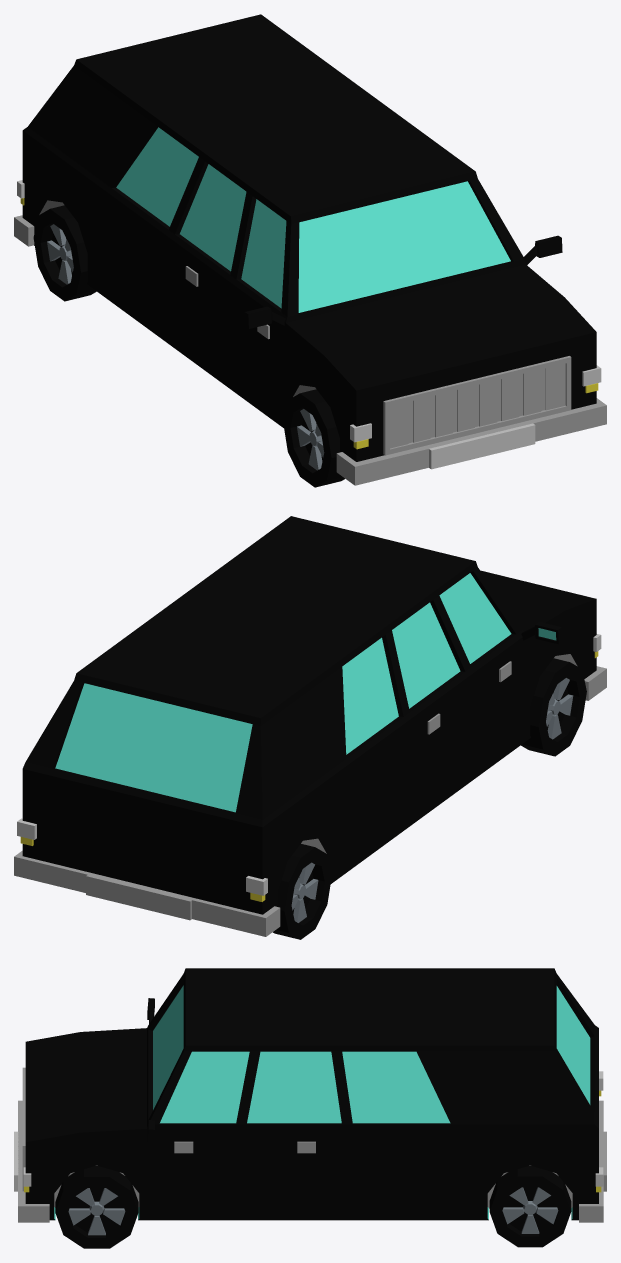
Rendered from car2.fbx.
3 views of the same model, one above another, from view 1: azimuth 30°, elevation 25°; view 2: azimuth 150°, elevation 25°; view 3: azimuth 270°, elevation 25° (orthographic). The views are drawn at different scales.
Visible parts, largest first — view 1: Cube.002, Cylinder.004, Cylinder.005; view 2: Cube.002, Cylinder.004, Cylinder.005; view 3: Cube.002, Cylinder.004, Cylinder.005.
Boxes of the visible parts, x1=… form: Cube.002: x1=14, y1=14, x2=606, y2=485; Cylinder.004: x1=283, y1=389, x2=344, y2=487; Cylinder.005: x1=33, y1=205, x2=96, y2=301; Cube.002: x1=14, y1=516, x2=606, y2=936; Cylinder.004: x1=521, y1=658, x2=586, y2=756; Cylinder.005: x1=273, y1=844, x2=331, y2=939; Cube.002: x1=14, y1=968, x2=606, y2=1222; Cylinder.004: x1=55, y1=1166, x2=138, y2=1248; Cylinder.005: x1=489, y1=1166, x2=571, y2=1247.
Size of the model in its own units: 1.99 by 3.8 by 1.33.
